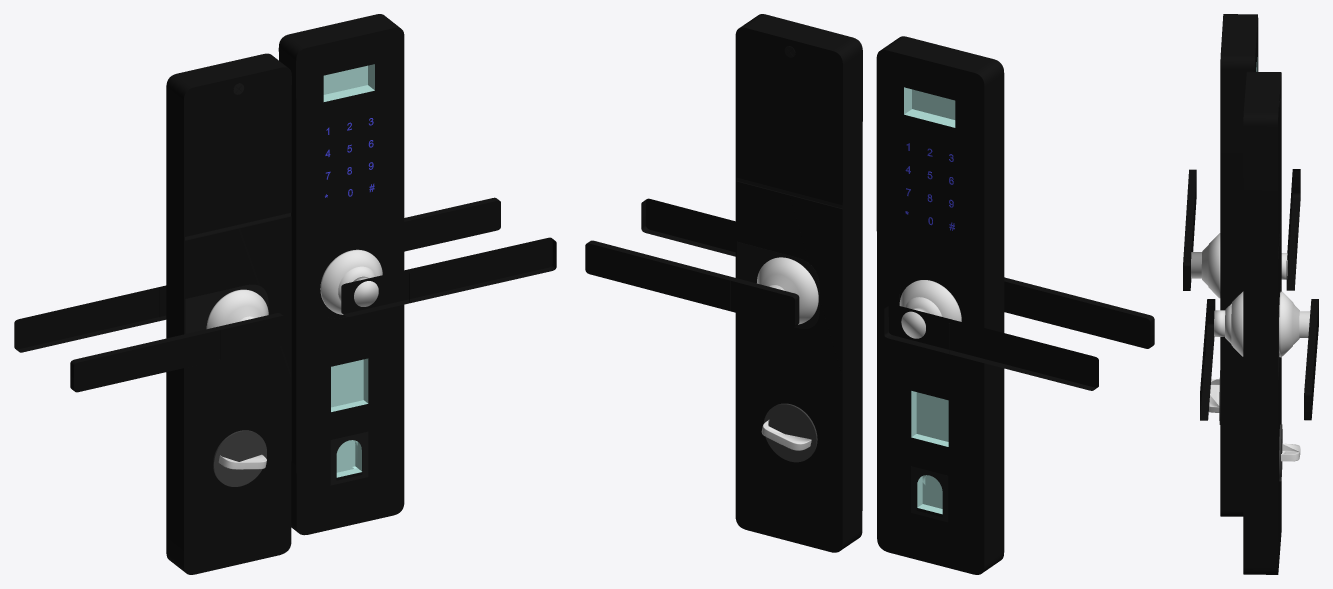
The model's file is lock.glb.
The picture shows the model from 3 angles, left to right: view 1: azimuth 30°, elevation 25°; view 2: azimuth 150°, elevation 25°; view 3: azimuth 270°, elevation 25°; orthographic projection. The views are drawn at different scales.
Parts seen in each view (by area): view 1: Box004, Box003.001; view 2: Box004, Box003.001; view 3: Box003.001, Box004.
Part boxes in pixels (x1,y1,x2,y2): Box004: [14, 53, 291, 574]; Box003.001: [278, 14, 556, 535]; Box004: [876, 36, 1154, 574]; Box003.001: [585, 14, 862, 552]; Box003.001: [1200, 71, 1318, 574]; Box004: [1183, 14, 1300, 516].
Bounding box in the file's own units: 1.33 × 1.26 × 0.3375.
